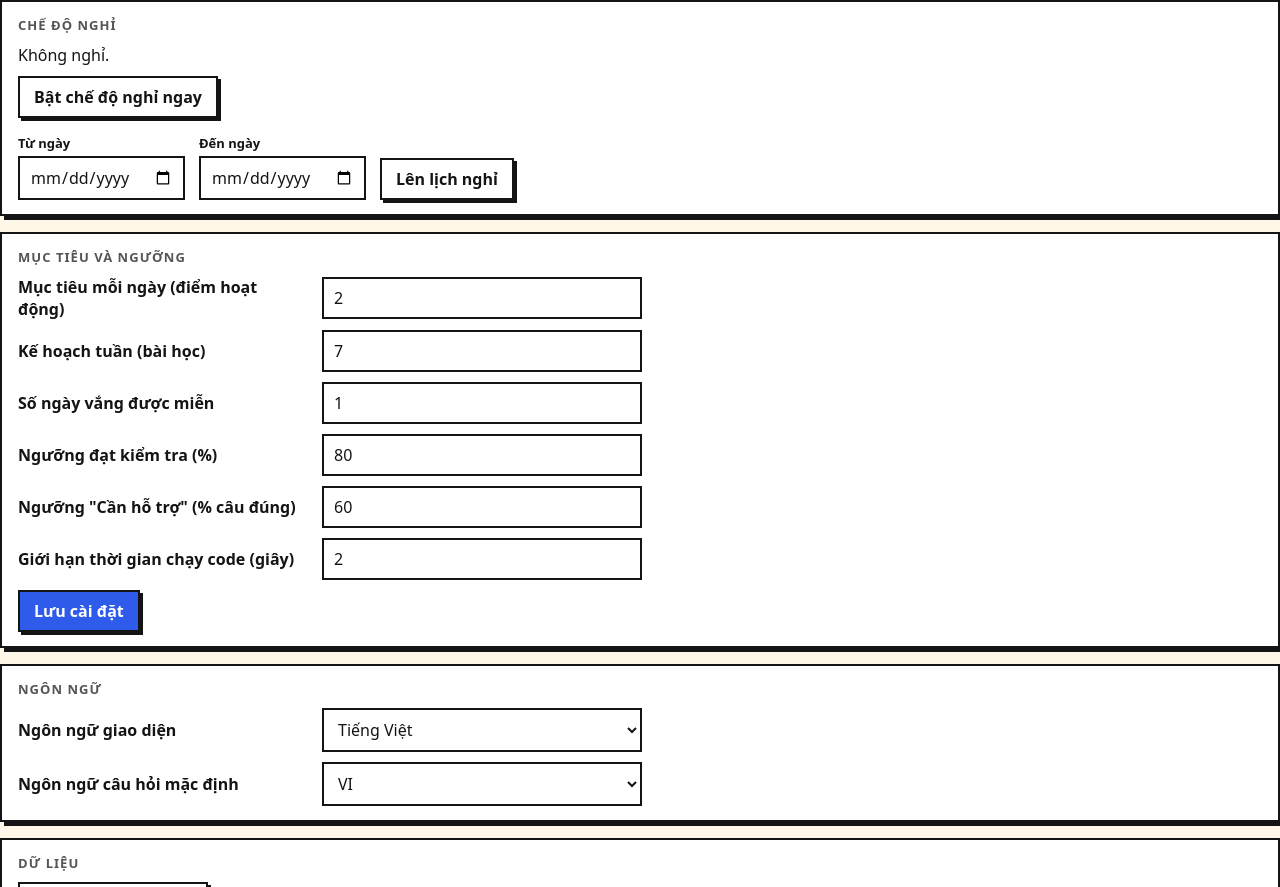
Test: ParentSettings › a blank number field is left out and shows the saved value again
Clear the number field labelled "Kế hoạch tuần (bài học)" at {"x": 482, "y": 351}, box [322,330,642,372]
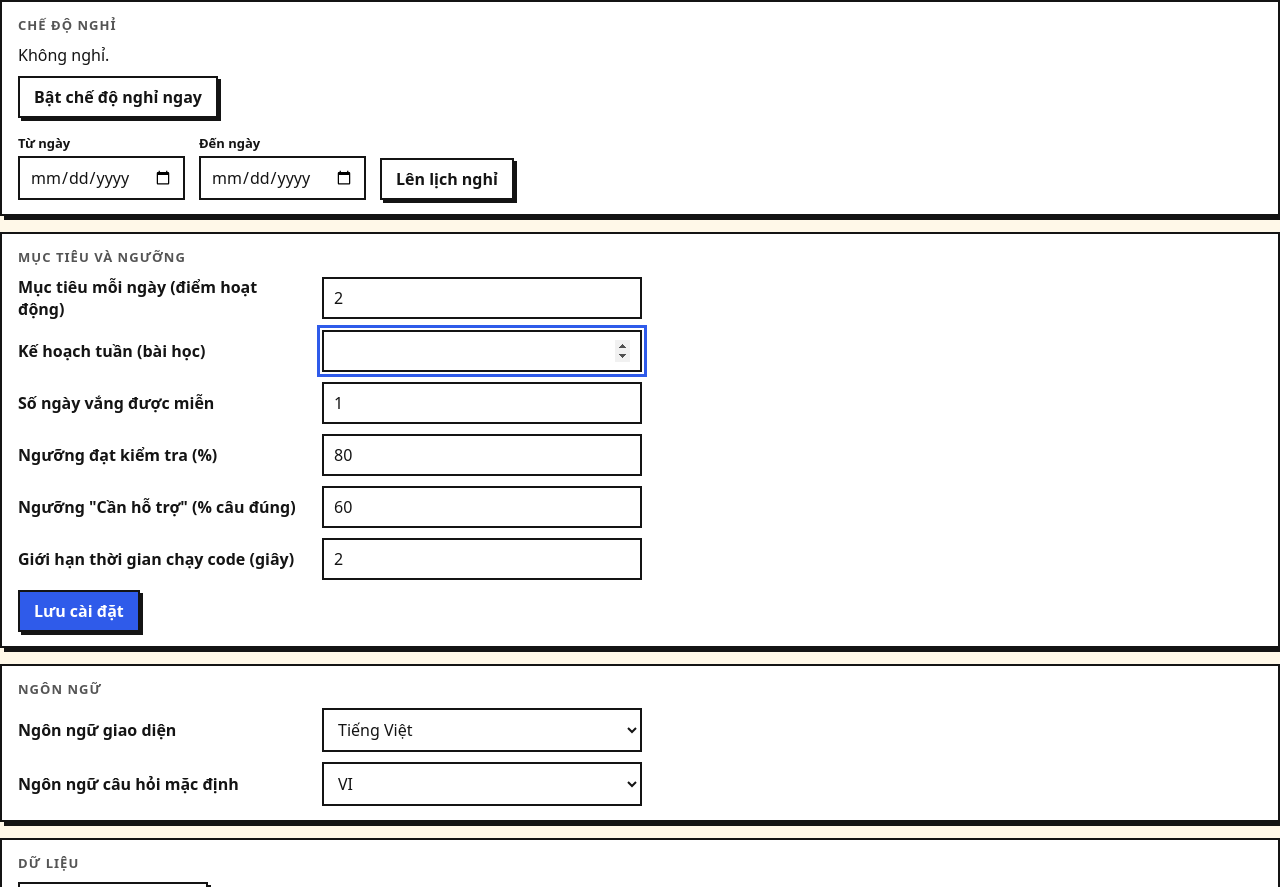
Click the button "Lưu cài đặt" at {"x": 79, "y": 611}, box [18,590,140,632]
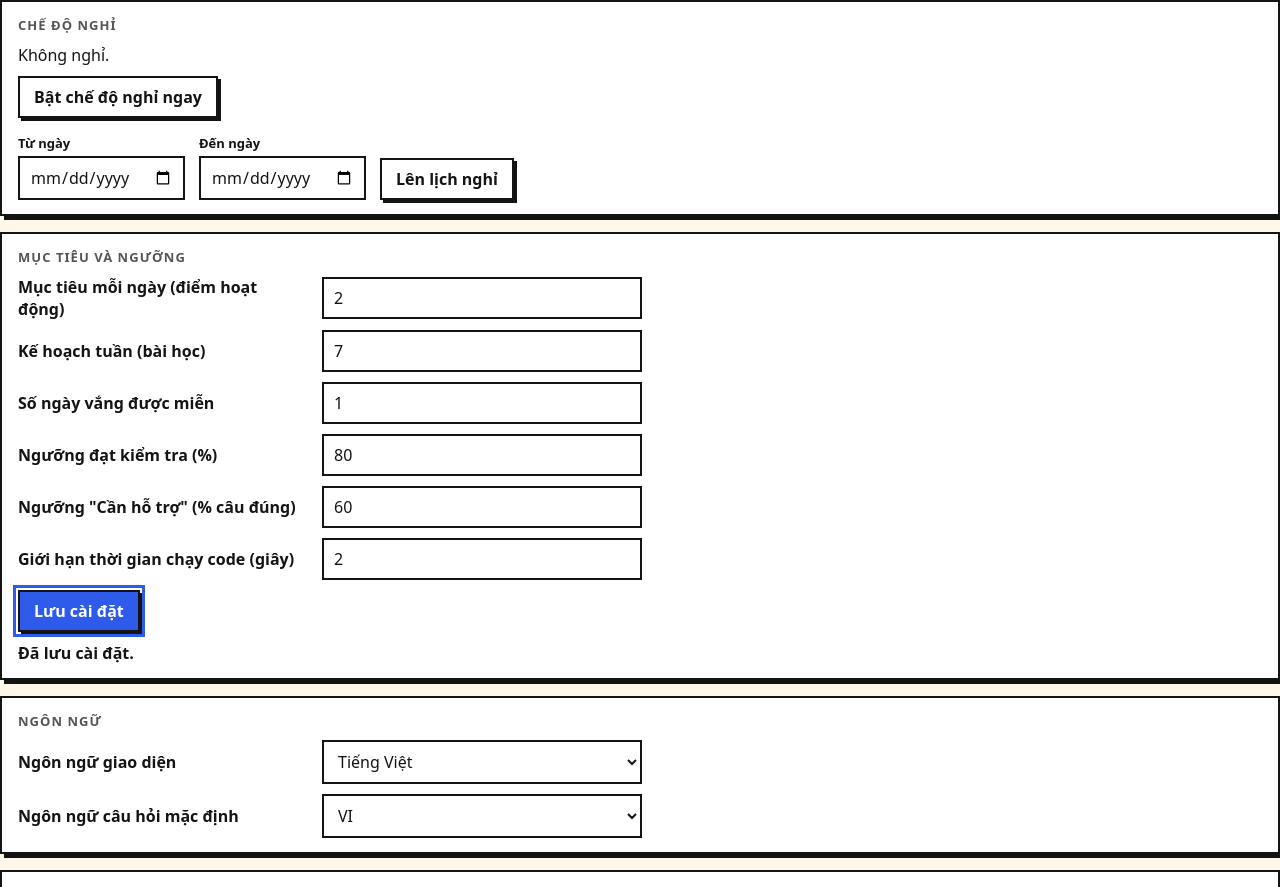
Check: the number field labelled "Kế hoạch tuần (bài học)" holds "7", box [322,330,642,372]
